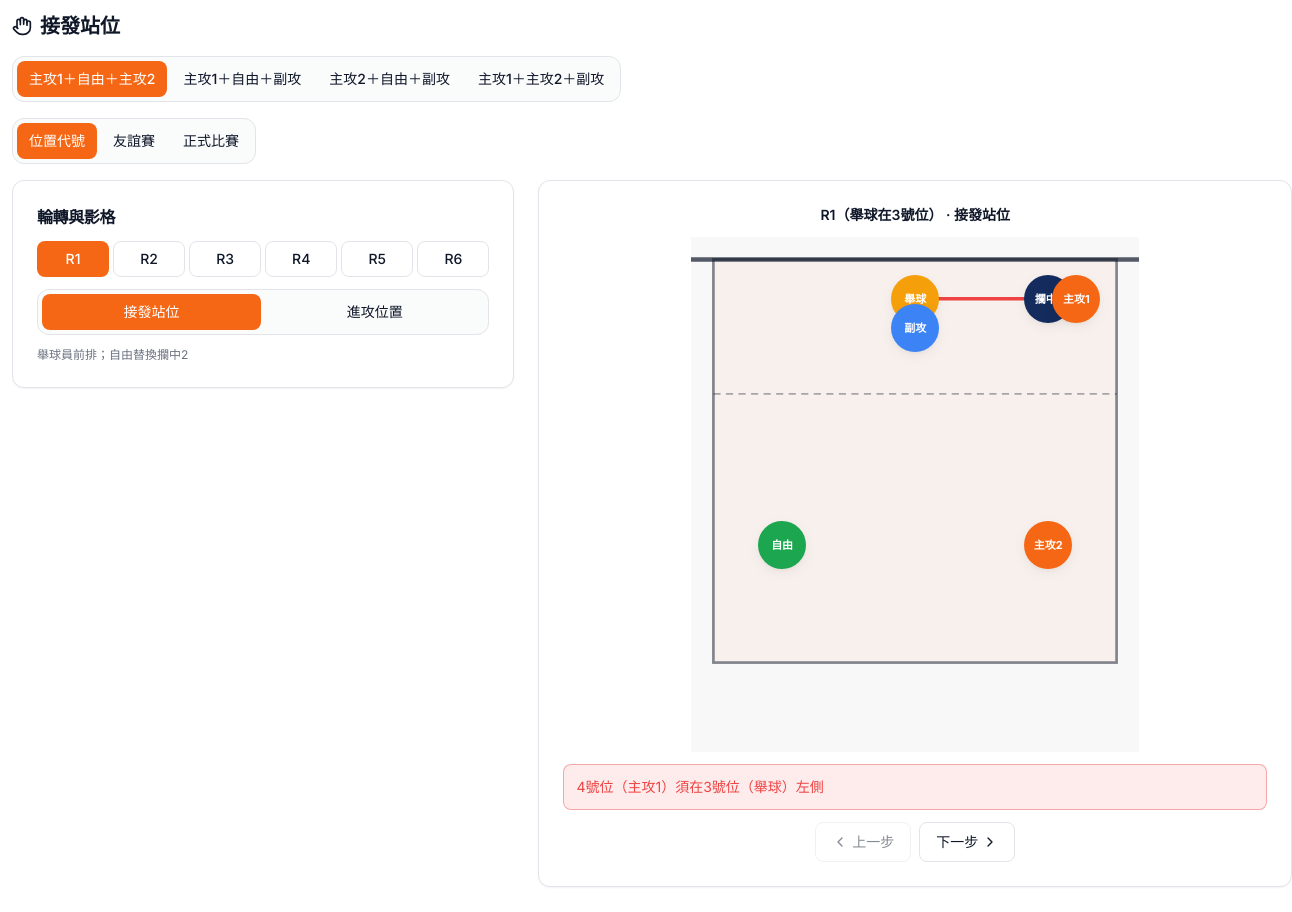
Test case: 接發站位頁 › 接發站位違規時列出說明；進攻位置影格不檢查
Expected: the list item "4號位（主攻1）須在3號位（舉球）左側" is shown, [576, 778, 824, 795]
Click the button "進攻位置" at (375, 312), box [265, 294, 484, 330]
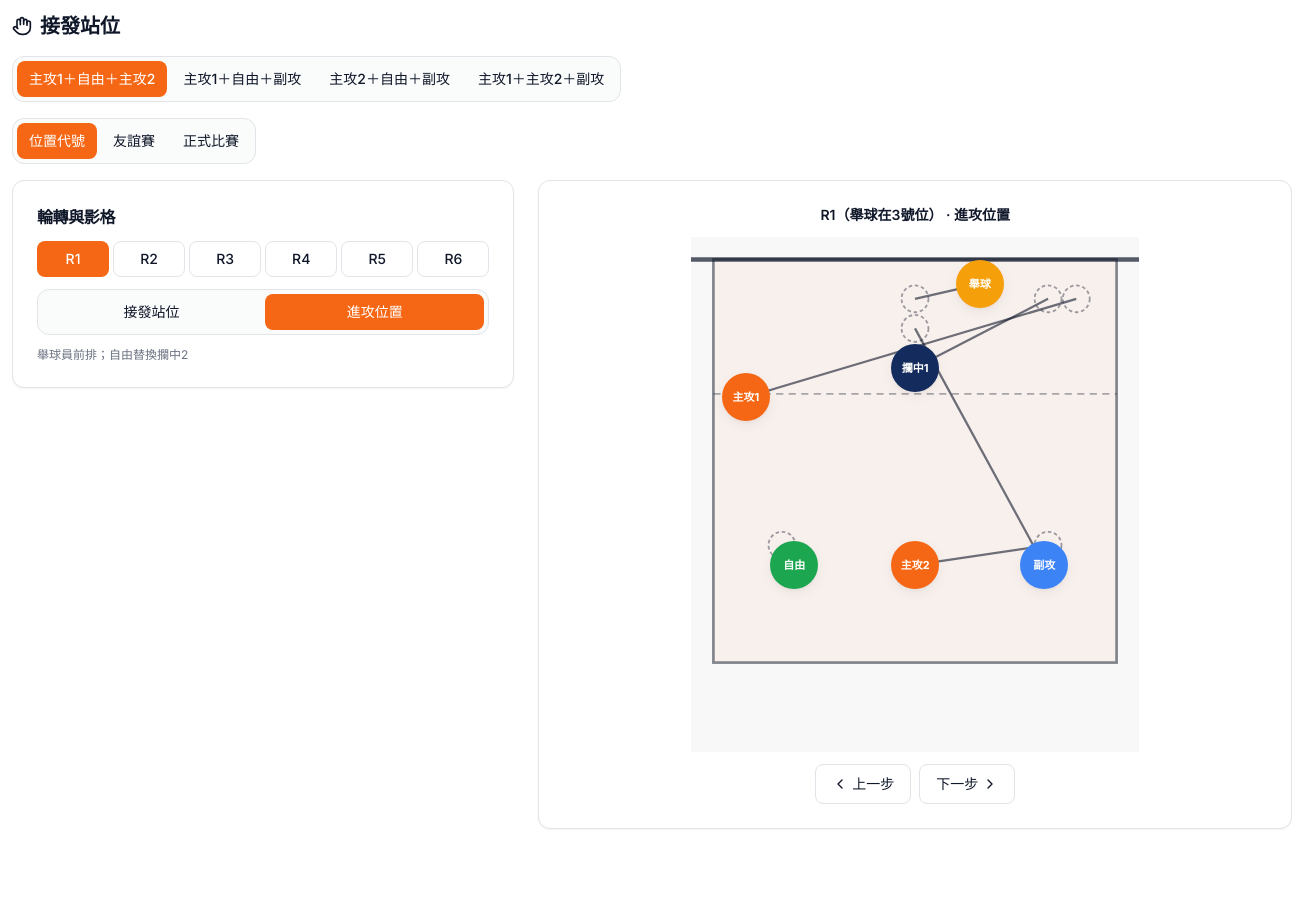
Expected: the list item "4號位（主攻1）須在3號位（舉球）左側" is gone
